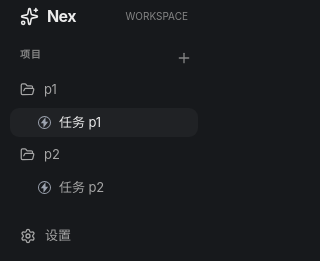
collapses the current project without deleting its conversations
The image size is (320, 261).
Click the button "p1". click: click(89, 90)
box: [10,72,168,108]
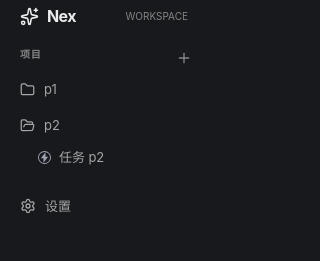
expect the button "任务 p1" is gone: met
